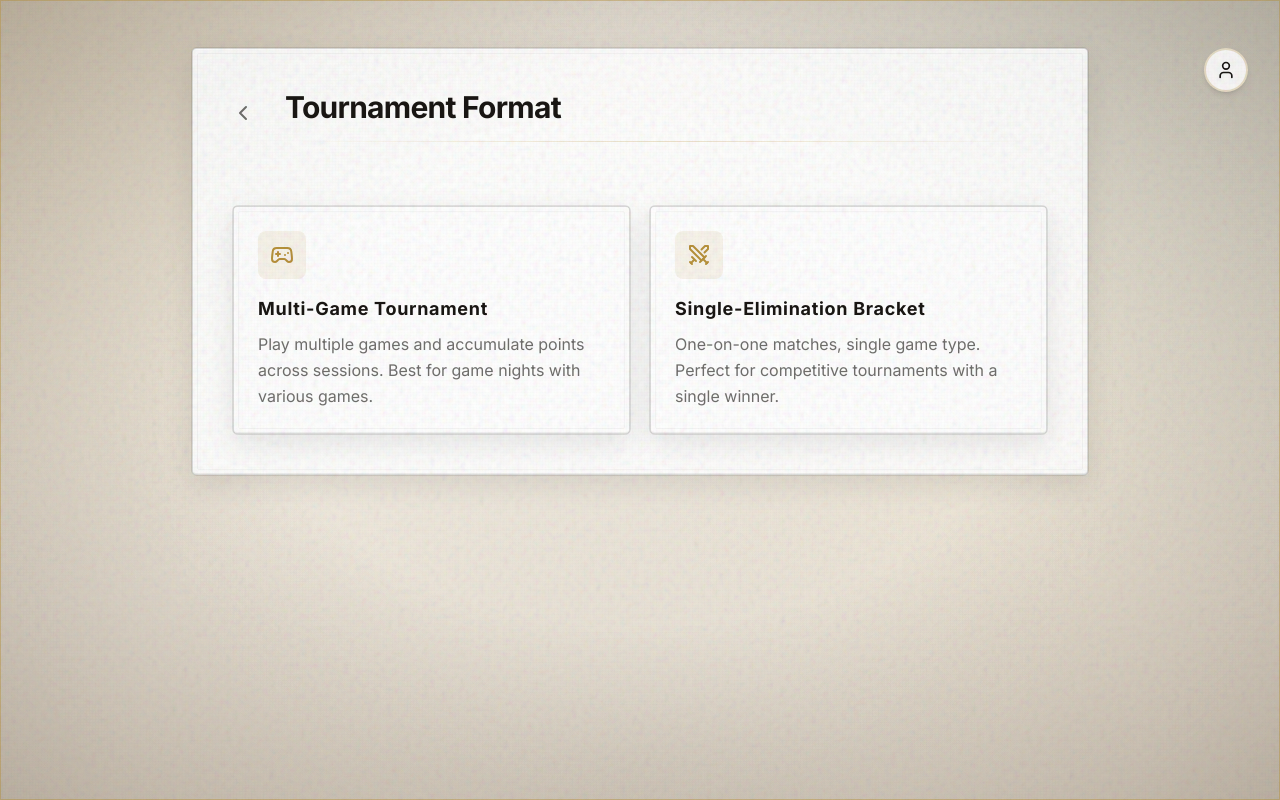
Test case: NewTournament › shows validation errors on step 2
Note: Select format
Click the button "Multi-Game Tournament".
click(432, 320)  # box [233,206,630,434]
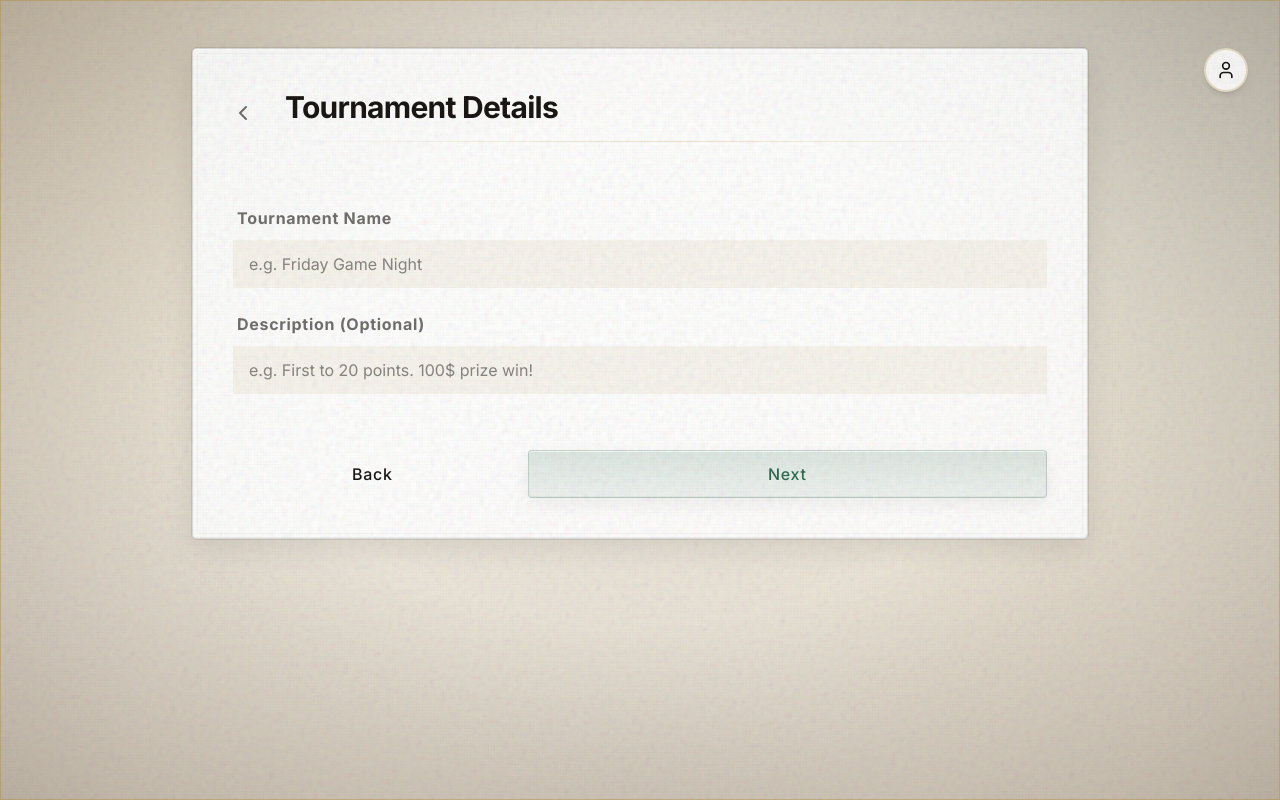
Expected: the heading "Tournament Details" is shown, [285,89,558,125]
Note: Try to proceed without entering a name
Click the button "Next".
click(787, 474)  # box [528,450,1047,498]
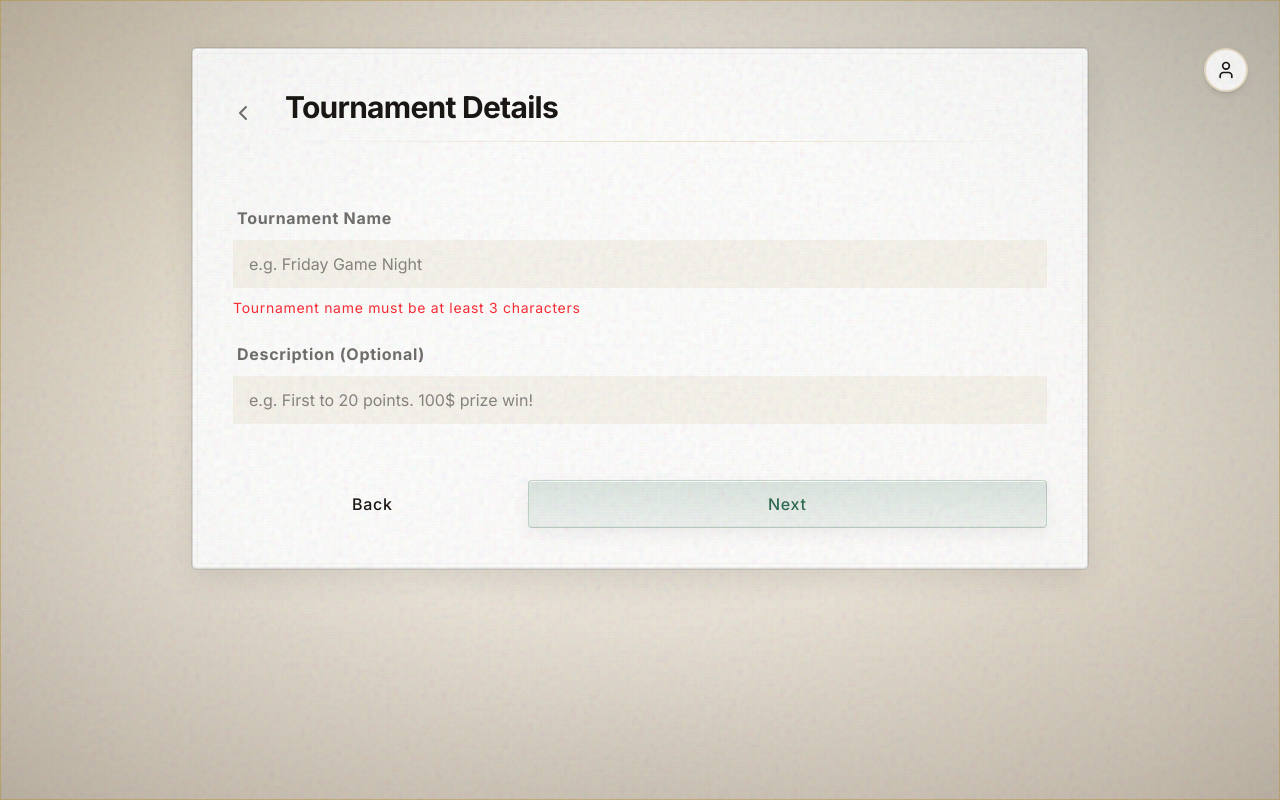
Expected: the text "Tournament name must be at least 3 characters" is shown, [233,299,580,316]
